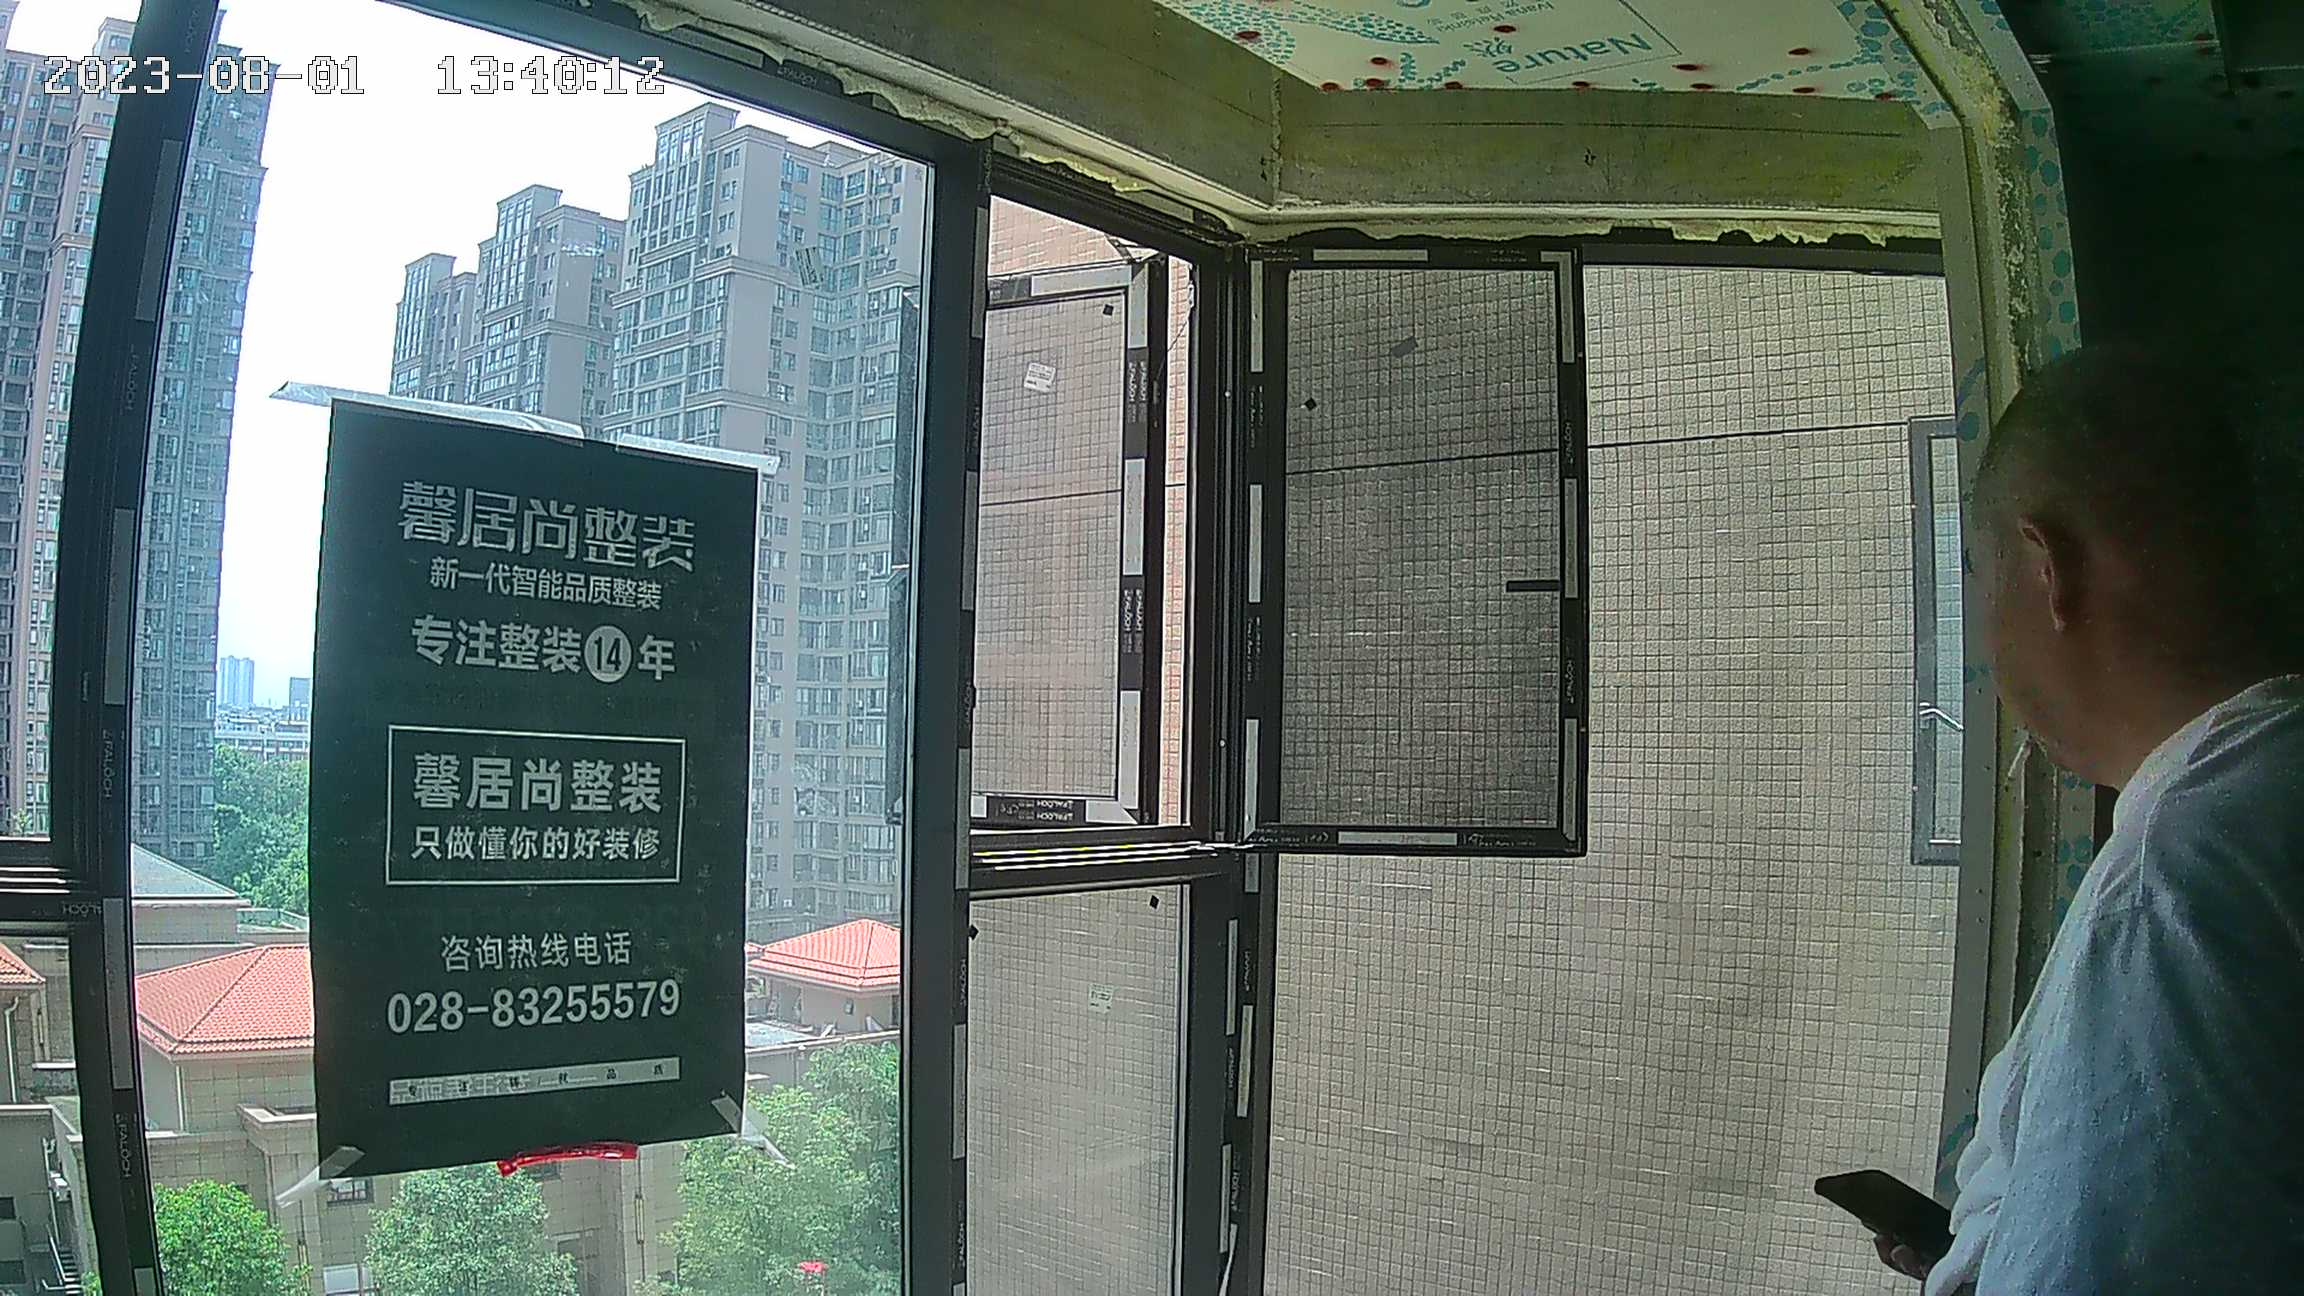people: (1849, 345, 2304, 1287)
window: (6, 7, 1942, 1296)
